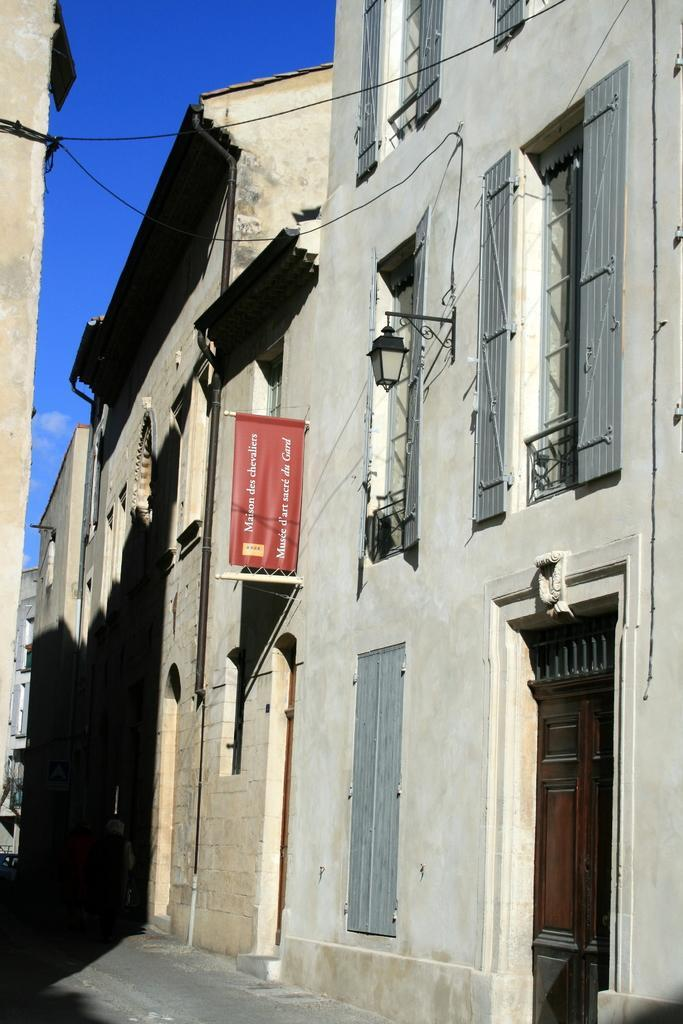door: (542, 708, 581, 1012), (358, 648, 398, 934), (582, 732, 610, 1006)
